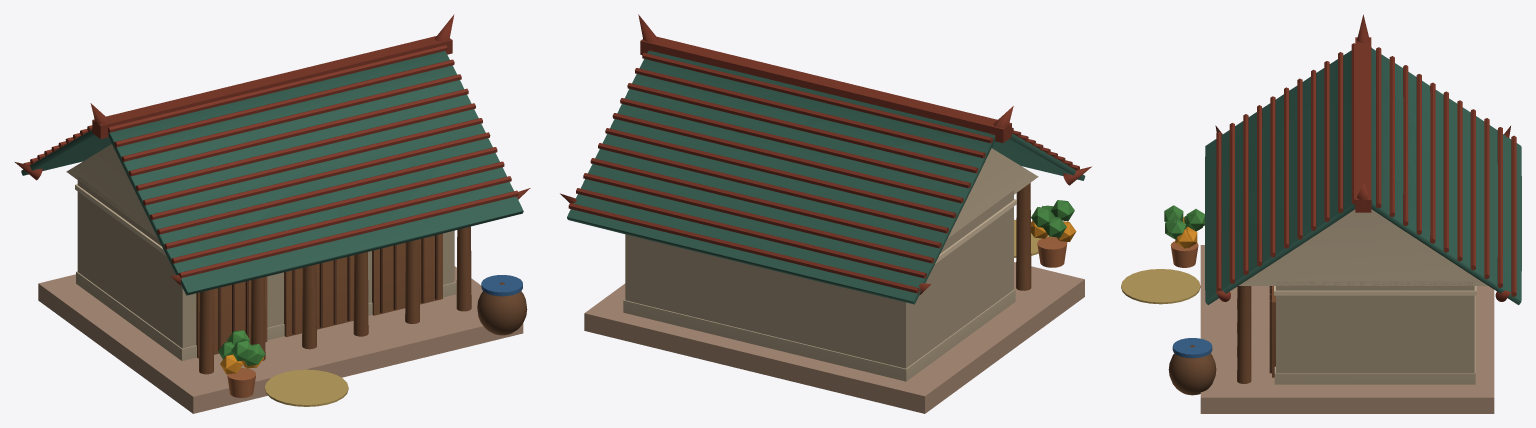
3 views of the same model, side by side, from view 1: azimuth 30°, elevation 25°; view 2: azimuth 150°, elevation 25°; view 3: azimuth 270°, elevation 25° (orthographic). The views are drawn at different scales.
Size of the model in its own units: 10.03 by 6.65 by 10.09.
